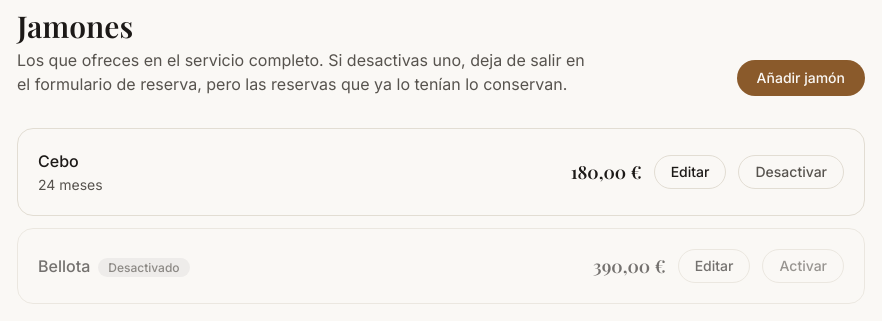
Test: AdminHamTypes › desactivar un jamón manda el mismo jamón con active: false
The image size is (882, 321).
Expected: the text "Cebo" is shown, top-left (38, 151), bottom-right (79, 171)
Click the button "Desactivar" at (791,172), box top-left (738, 155), bottom-right (844, 189)
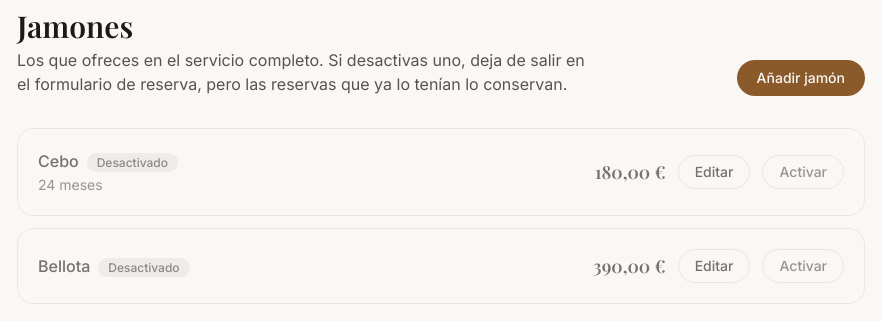
Expected: the text "Desactivado" next to "Cebo" is shown, top-left (97, 155), bottom-right (168, 170)
